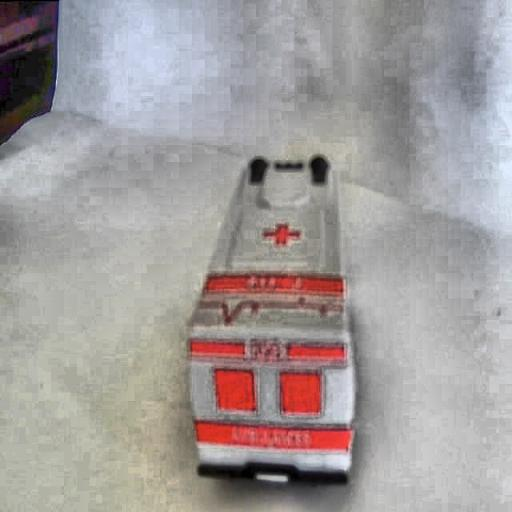ambulance: (185, 155, 355, 484)
